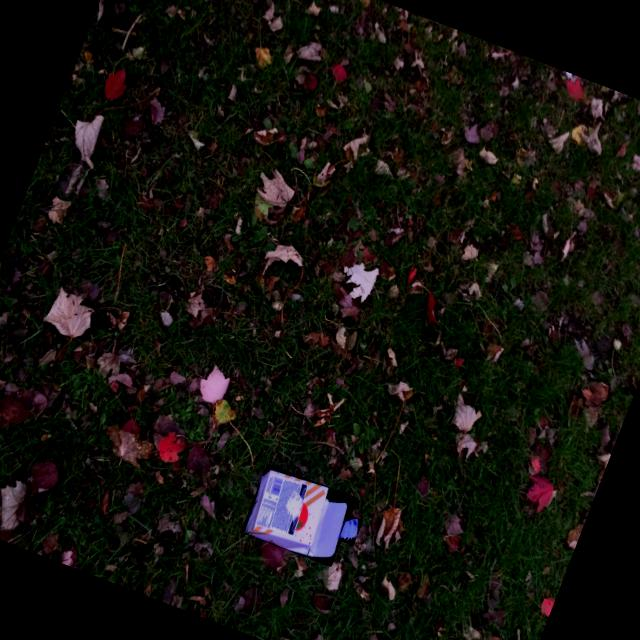Food Carton: (244, 470, 349, 558)
Plastic film: (339, 519, 358, 541)
